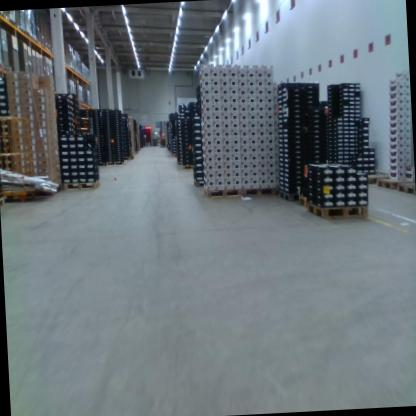pallet: (304, 193, 368, 222), (202, 183, 242, 200), (375, 174, 411, 191), (362, 169, 394, 188), (58, 178, 101, 191), (241, 185, 277, 198), (277, 185, 301, 204), (294, 190, 312, 210), (396, 179, 415, 195), (104, 158, 125, 167), (180, 160, 194, 173), (193, 177, 206, 188), (97, 160, 107, 167), (123, 155, 132, 160)
